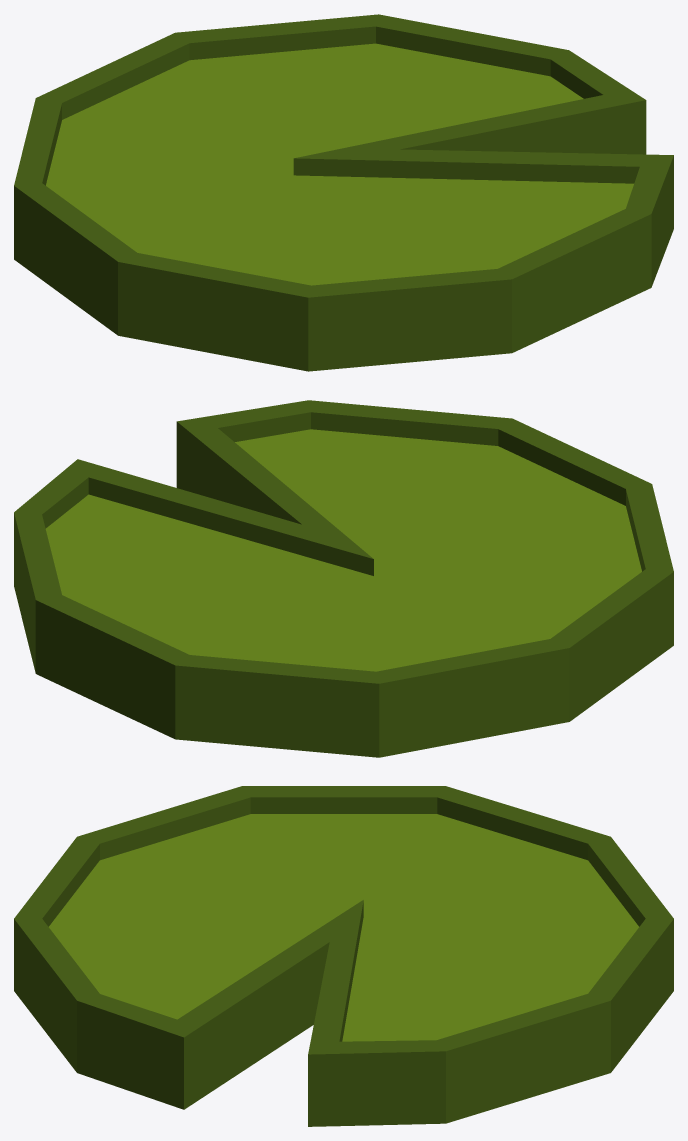
Rendered from WaterLily_Lime_2.fbx.
The picture shows the model from 3 angles, top to bottom: view 1: azimuth 30°, elevation 25°; view 2: azimuth 150°, elevation 25°; view 3: azimuth 270°, elevation 25°; orthographic projection. The views are drawn at different scales.
Parts seen in each view (by area): view 1: Cylinder.590, Cylinder.593; view 2: Cylinder.590, Cylinder.593; view 3: Cylinder.593, Cylinder.590.
Boxes of the visible parts, x1,y1,x2,y2 form: Cylinder.590: (14, 14, 673, 371); Cylinder.593: (46, 43, 633, 285); Cylinder.590: (14, 400, 673, 757); Cylinder.593: (45, 429, 641, 671); Cylinder.593: (49, 814, 638, 1041); Cylinder.590: (14, 786, 673, 1126).
Size of the model in its own units: 115 by 14.41 by 119.
